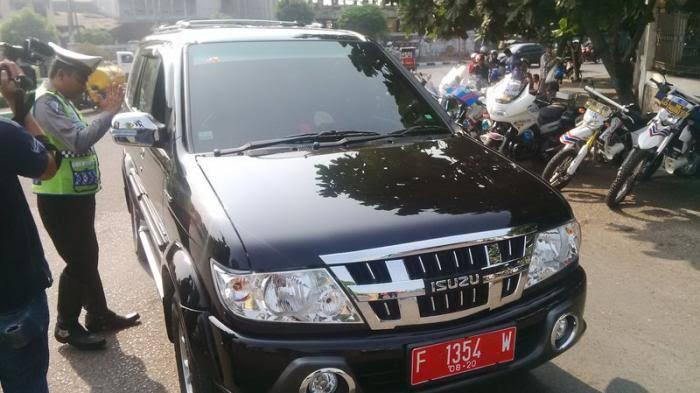plate: (411, 325, 514, 385)
